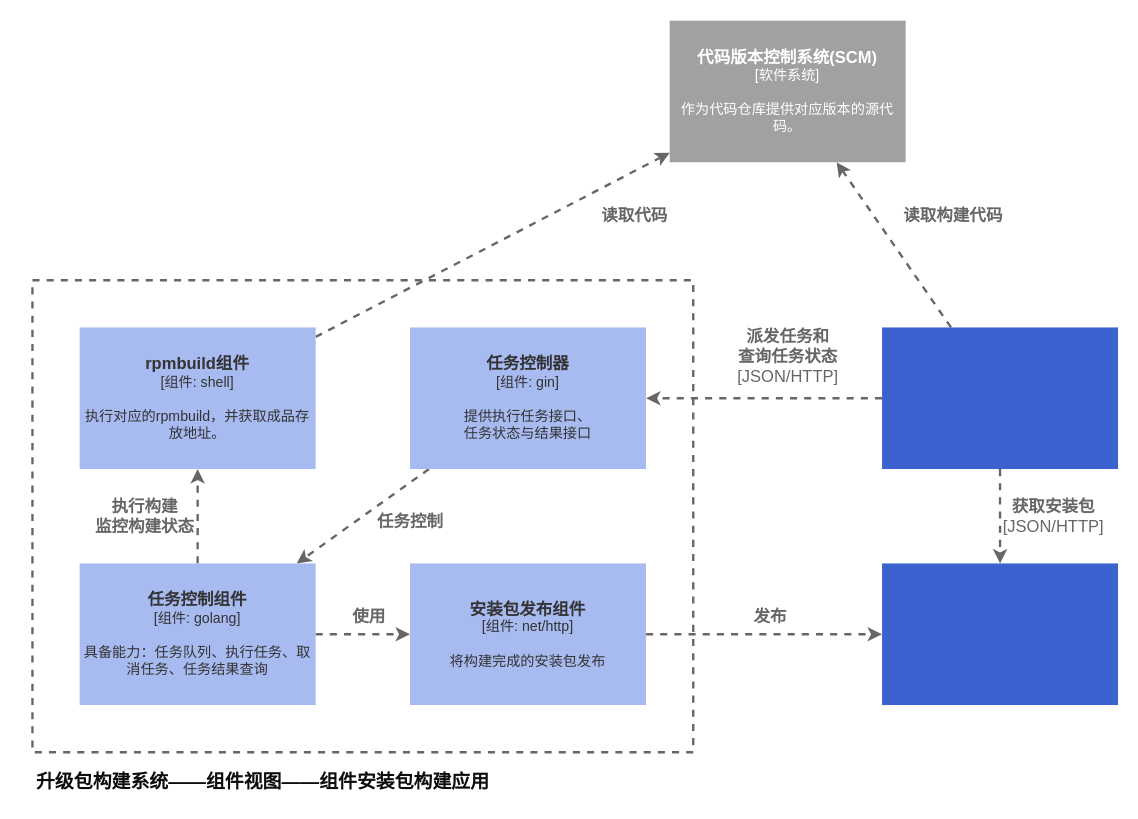
Image size: 1138x819. Some labels were removed from this diagram. Here are the shapes that lost their labels. From the top down, the box of each, then its label:
(881, 327, 1117, 468): 升级包构建Web应用 [容器: jenkins, docker] 在用户的浏览器上， 提供构建升级包的入口。 具备执行构建升级包的能力。
(31, 278, 694, 753): 组件安装包构建应用 [容器: golang, rpmbuild, docker]
(881, 563, 1117, 704): 宿主机代理 [容器: golang] 具有对宿主机环境进行操作的能力
